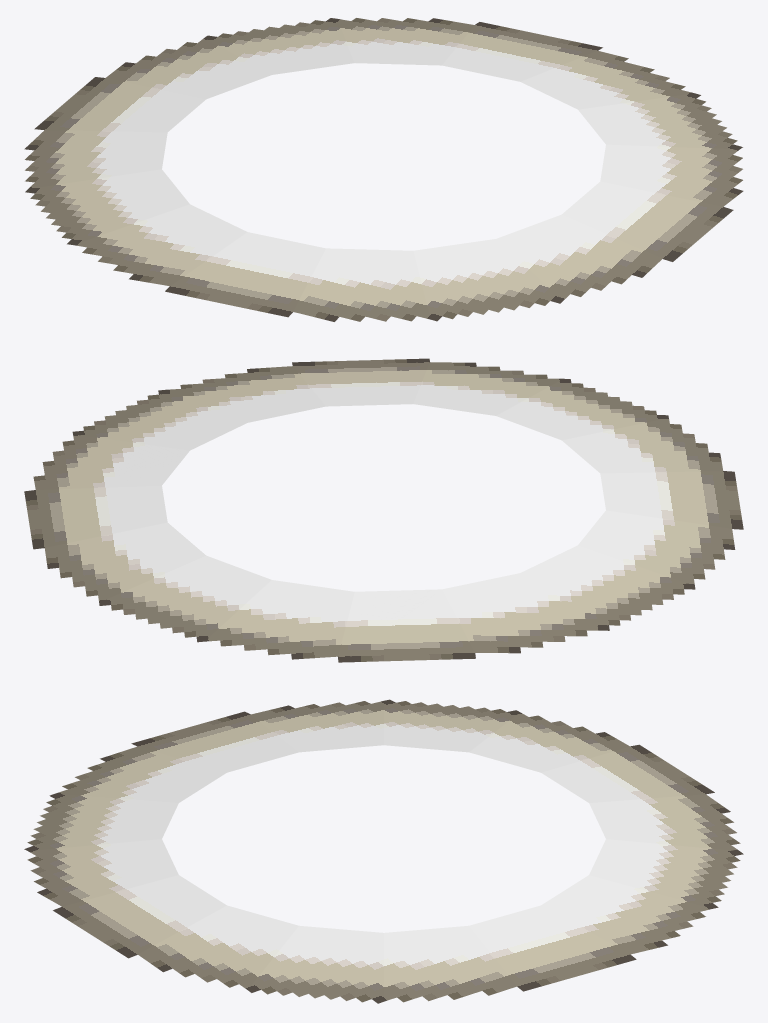
The model's file is psx_pickup_marker.obj.
3 renders of one model, top to bottom at view 1: azimuth 30°, elevation 25°; view 2: azimuth 150°, elevation 25°; view 3: azimuth 270°, elevation 25°, orthographic.
Visible parts, largest first — view 1: pickup_marker; view 2: pickup_marker; view 3: pickup_marker.
Part boxes in pixels (bbox=[...]): pickup_marker: bbox=[24, 18, 743, 321]; pickup_marker: bbox=[24, 358, 743, 662]; pickup_marker: bbox=[24, 699, 743, 1003].
Bounding box in the file's own units: 0.5 × 0.01 × 0.5.
1 material, 1 textured.
